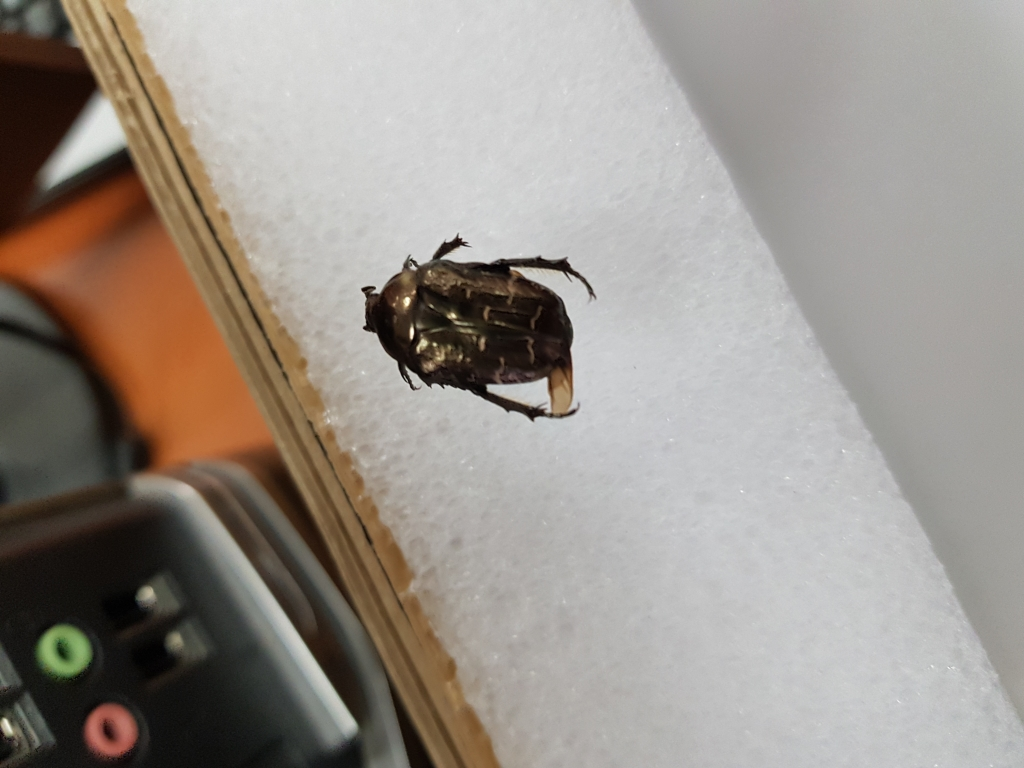Cetonia_kemali: (354, 225, 599, 428)
